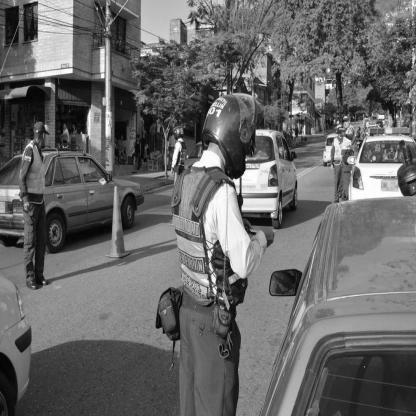car: (4, 151, 147, 251)
